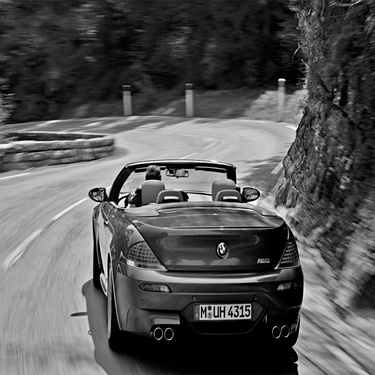car: (88, 151, 308, 353)
